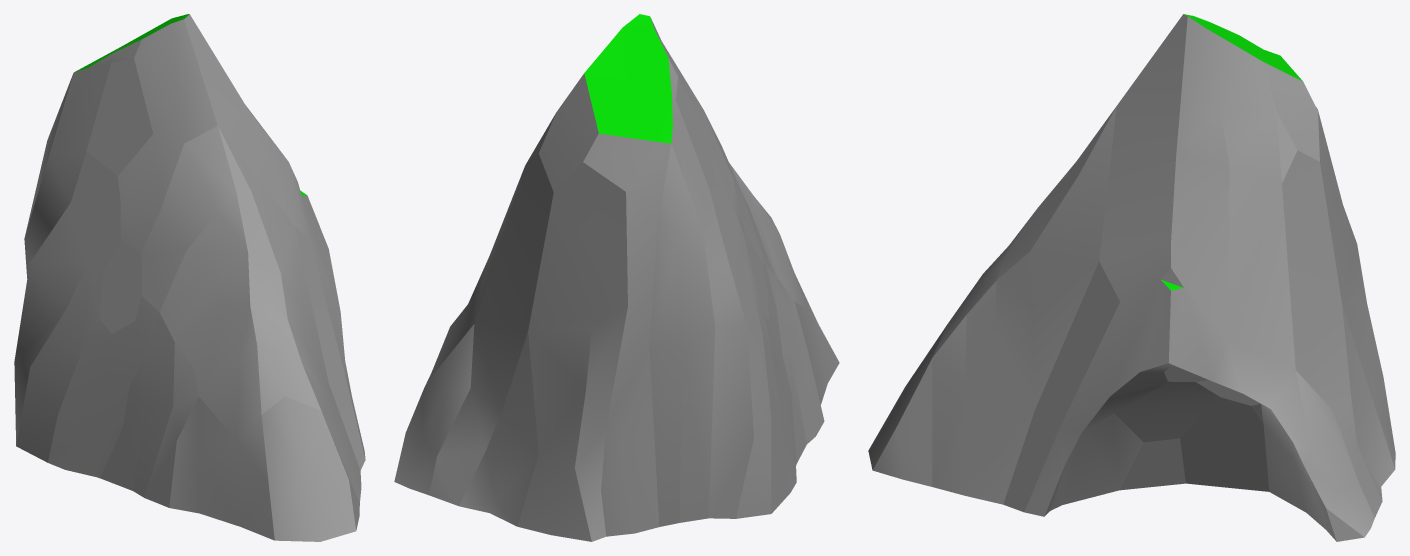
File: rock_jungle_big_B.fbx
The picture shows the model from 3 angles, left to right: view 1: azimuth 30°, elevation 25°; view 2: azimuth 150°, elevation 25°; view 3: azimuth 270°, elevation 25°; orthographic projection. The views are drawn at different scales.
Parts seen in each view (by area): view 1: rock_jungle_big_B; view 2: rock_jungle_big_B; view 3: rock_jungle_big_B.
Part boxes in pixels (x1,y1,x2,y2): rock_jungle_big_B: [14, 14, 365, 541]; rock_jungle_big_B: [394, 14, 839, 541]; rock_jungle_big_B: [868, 14, 1395, 541].
Bounding box in the file's own units: 116 × 151 × 162.
